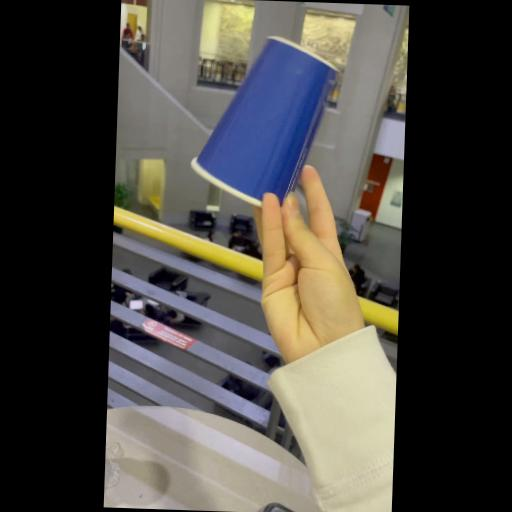lp_paper_cup: (189, 28, 341, 210)
